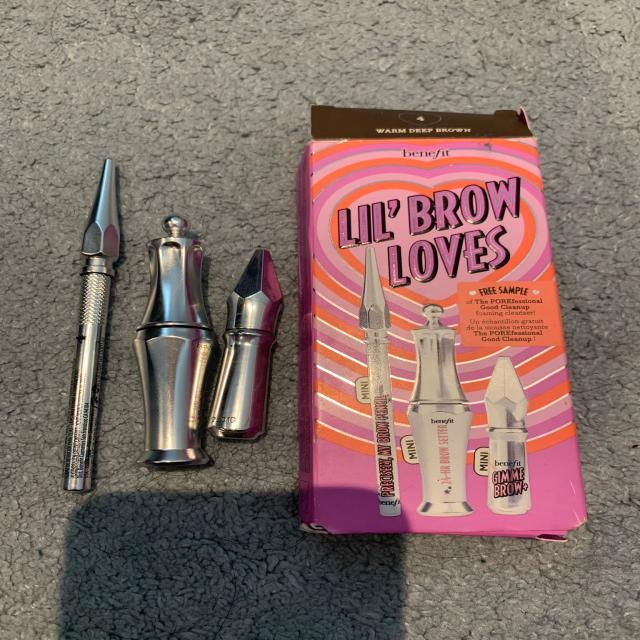eye liner: (52, 121, 134, 534)
lip stick: (222, 220, 320, 487)
mascara: (134, 183, 217, 524)
